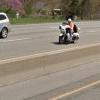Motorcycle: (52, 17, 84, 49)
